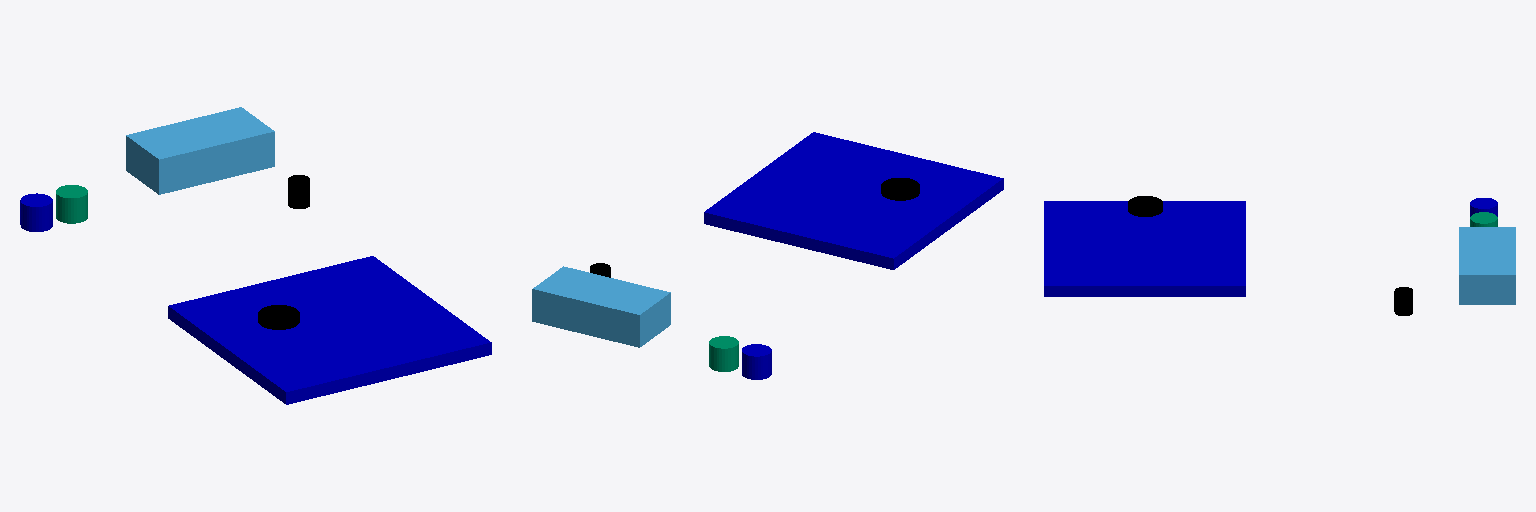
robot.urdf — trialbox:
<?xml version="1.0"?>
<robot name="trialbox">

  <material name="blue">
    <color rgba="0 0 0.8 1"/>
  </material>
  <material name="black">
    <color rgba="0 0 0 1"/>
  </material>
  <material name="white">
    <color rgba="1 1 1 1"/>
  </material>
  
  
  <link name="base_link">
    <visual>
      <geometry>
        <mesh filename="package://urdf_tutorial/meshes/task_board_v2023.stl" scale="1 1 1"/>
      </geometry>
      <material name="white"/>
    </visual>
    <collision>
      <geometry>
        <box size="0.15207 0.25367 0.08"/>
      </geometry>
    </collision>
    <inertial>
      <mass value="7"/>
      <inertia ixx="1e-3" ixy="0.0" ixz="0.0" iyy="1e-3" iyz="0.0" izz="1e-3"/>
    </inertial>
  </link>

  <link name="m5stick">
    <visual>
      <geometry>
        <box size="0.048 0.024 0.014"/>
      </geometry>
      <origin rpy="0 0 0" xyz="0 0 0"/>
    </visual>
    <collision>
      <geometry>
        <box size="0.048 0.024 0.014"/>
      </geometry>
      <origin rpy="0 0 0" xyz="0 0 0"/>
    </collision>
    <inertial>
      <mass value="0.07"/>
      <inertia ixx="1e-3" ixy="0.0" ixz="0.0" iyy="1e-3" iyz="0.0" izz="1e-3"/>
    </inertial>
  </link>

  <joint name="m5stick_joint" type="fixed">
    <parent link="base_link"/>
    <child link="m5stick"/>
    <origin xyz="0.024 0.097 0.087"/>
  </joint>

  <link name="stop_button">
    <visual>
      <geometry>
        <cylinder length="0.01" radius="0.0058"/>
      </geometry>
      <material name = "red"/>
      <origin rpy="0 0 0" xyz="0 0 0"/>
    </visual>
    <collision>
      <geometry>
        <cylinder length="0.01" radius="0.0058"/>
      </geometry>
      <origin rpy = "0 0 0" xyz = "0 0 0"/>
    </collision>
    <inertial>
      <mass value="0.01" />
      <inertia ixx="1e-3" ixy="0.0" ixz="0.0" iyy="1e-3" iyz="0.0" izz="1e-3"/>
    </inertial>
  </link>

  <joint name = "stop_button_joint" type="prismatic">
    <parent link = "base_link"/>
    <child link = "stop_button"/>
    <origin xyz = "-0.03 0.0957 0.079"/>
    <limit effort="100" lower="-0.004" upper="0.00" velocity="2.0"/> 
    <axis xyz = "0 0 1"/> 
    <dynamics damping="0.4" friction="5" />
  </joint>

  <link name="start_button">
    <visual>
      <geometry>
        <cylinder length="0.01" radius="0.0058"/>
      </geometry>
      <material name="blue"/>
      <origin rpy="0 0 0" xyz="0 0 0"/>
    </visual>
    <collision>
      <geometry>
        <cylinder length="0.01" radius="0.0058"/>
      </geometry>
      <origin rpy = "0 0 0" xyz = "0 0 0"/>
    </collision>
    <inertial>
      <mass value="0.01" />
      <inertia ixx="1e-3" ixy="0.0" ixz="0.0" iyy="1e-3" iyz="0.0" izz="1e-3"/>
    </inertial>
  </link>

  <joint name = "start_button_joint" type="prismatic">
    <parent link = "base_link"/>
    <child link = "start_button"/>
    <origin xyz = "-0.0446 0.0957 0.079"/>
    <limit effort="100" lower="-0.004" upper="0.00" velocity="2.0"/> 
    <axis xyz = "0 0 1"/> 
    <dynamics damping="0.4" friction="5" />
  </joint>
  
  <link name="slider">
    <visual>
      <geometry>
        <cylinder length="0.01" radius="0.004"/>
      </geometry>
      <material name="black"/>
      <origin rpy="0 0 0" xyz="0 0 0"/>
    </visual>
    <collision>
      <geometry>
        <cylinder length="0.01" radius="0.004"/>
      </geometry>
      <origin rpy="0 0 0" xyz="0 0 0"/>
    </collision>
    <inertial>
      <mass value="0.150" />
      <inertia ixx="1e-3" ixy="0.0" ixz="0.0" iyy="1e-3" iyz="0.0" izz="1e-3"/>
    </inertial>
  </link>

  <joint name = "slider_joint" type="prismatic">
    <parent link = "base_link"/>
    <child link = "slider"/>
    <origin xyz = "0.0448 0.062 0.08"/>
    <limit effort="100" lower="-0.025" upper="0.00" velocity="2.0"/> 
    <axis xyz = "1 0 0"/> 
    <dynamics damping="0.4" friction="5" />
  </joint>
  
  <link name = "door">
    <visual>
      <geometry>
        <box size = "0.085 0.085 0.005"/>
      </geometry>
      <material name = "blue"/>
      <origin xyz = "-0.042 0 0"/>
    </visual>
    <collision>
      <geometry>
        <box size = "0.085 0.085 0.005"/>
      </geometry>
      <origin xyz = "-0.042 0 0"/>
    </collision>
    <inertial>
      <mass value="0.150" />
      <inertia ixx="1e-3" ixy="0.0" ixz="0.0" iyy="1e-3" iyz="0.0" izz="1e-3"/>
    </inertial>
  </link>
  
  <joint name = "door_joint" type="revolute">
    <parent link = "base_link"/>
    <child link = "door"/>
    <origin xyz = "0.0365 -0.047 0.081"/>
    <limit effort="100" lower="0.0" upper="2.076" velocity="2.0"/> 
    <axis xyz = "0 1 0"/> 
    <dynamics damping="0.1" friction="0.1" />
  </joint>
  
  <link name = "door_grip">
    <visual>
      <geometry>
        <cylinder length = "0.003" radius = "0.0075"/>
      </geometry>
      <material name = "black"/>
      <origin rpy = "0 0 0" xyz = "0 0 0"/>
    </visual>
    <collision>
      <geometry>
        <cylinder length = "0.003" radius = "0.0075"/>
      </geometry>
      <origin rpy = "0 0 0" xyz = "0 0 0"/>
    </collision>
    <inertial>
      <mass value="0.1" />
      <inertia ixx="1e-3" ixy="0.0" ixz="0.0" iyy="1e-3" iyz="0.0" izz="1e-3"/>
    </inertial>
  </link>
  
  <joint name = "door_grip" type="fixed">
    <parent link = "door"/>
    <child link = "door_grip"/>
    <origin xyz = "-0.063 0.0 0.01"/>
  </joint>

</robot>

--- Facts derived from the render (not from the file) ---
Views: 3 orthographic renders of the robot side by side, from view 1: azimuth 30°, elevation 25°; view 2: azimuth 150°, elevation 25°; view 3: azimuth 270°, elevation 25°.
Model trialbox with 7 links and 6 joints (1 revolute, 3 prismatic, 2 fixed), rooted at base_link, posed all joints at 0.
Links seen in each view (by area): view 1: door, m5stick, start_button, stop_button, door_grip, slider; view 2: door, m5stick, start_button, stop_button, door_grip; view 3: door, m5stick, door_grip, slider.
Boxes of the visible links, x1,y1,x2,y2 form: door: (168, 256, 491, 404); m5stick: (126, 107, 274, 194); start_button: (20, 193, 52, 231); stop_button: (56, 185, 87, 223); door_grip: (258, 305, 299, 329); slider: (288, 175, 309, 208); door: (704, 132, 1003, 269); m5stick: (532, 266, 670, 347); start_button: (742, 344, 771, 379); stop_button: (709, 336, 738, 371); door_grip: (881, 178, 919, 200); door: (1044, 201, 1245, 296); m5stick: (1459, 227, 1515, 304); door_grip: (1128, 196, 1162, 216); slider: (1394, 287, 1412, 315).
Size in the robot's own frame: 0.0992 by 0.1985 by 0.02 metres.
0 mesh visuals loaded from 1 distinct referenced files (none loaded); not drawn: 1 (reference not matched to a file when rendering).
